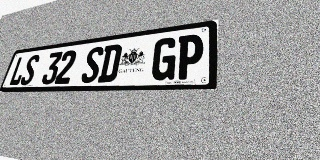2: (54, 49, 78, 84)
3: (40, 51, 63, 85)
D: (97, 44, 123, 83)
G: (150, 37, 178, 81)
L: (8, 56, 29, 86)
P: (175, 33, 204, 80)
S: (80, 46, 105, 83), (19, 54, 41, 85)
